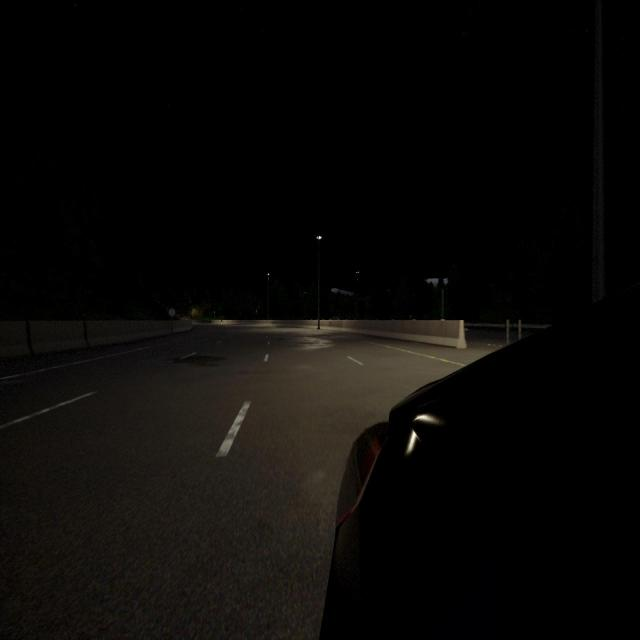Traffic_Signs: (169, 308, 175, 316)
Vehicle: (320, 285, 640, 637)
